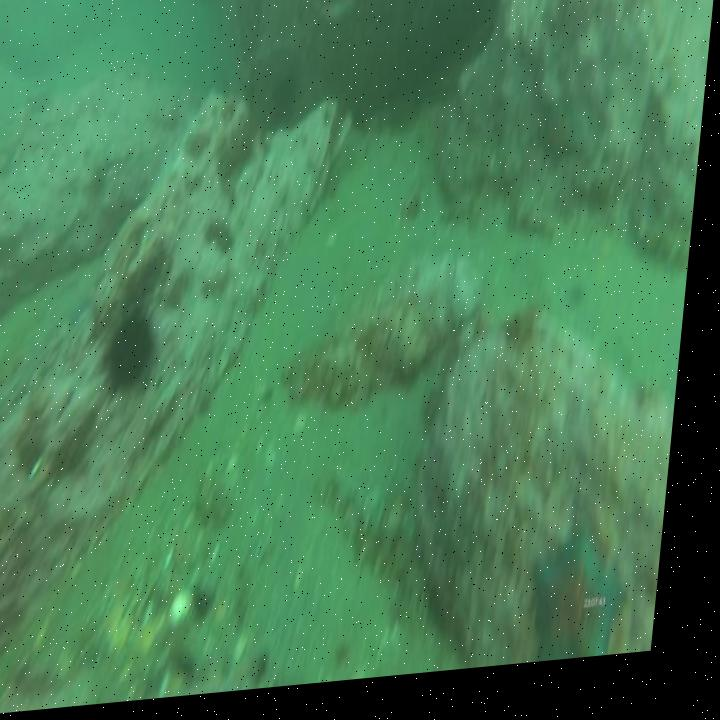echinus: (109, 309, 166, 398)
holothurian: (322, 468, 446, 644)
starfish: (537, 529, 650, 675), (538, 105, 593, 182)
